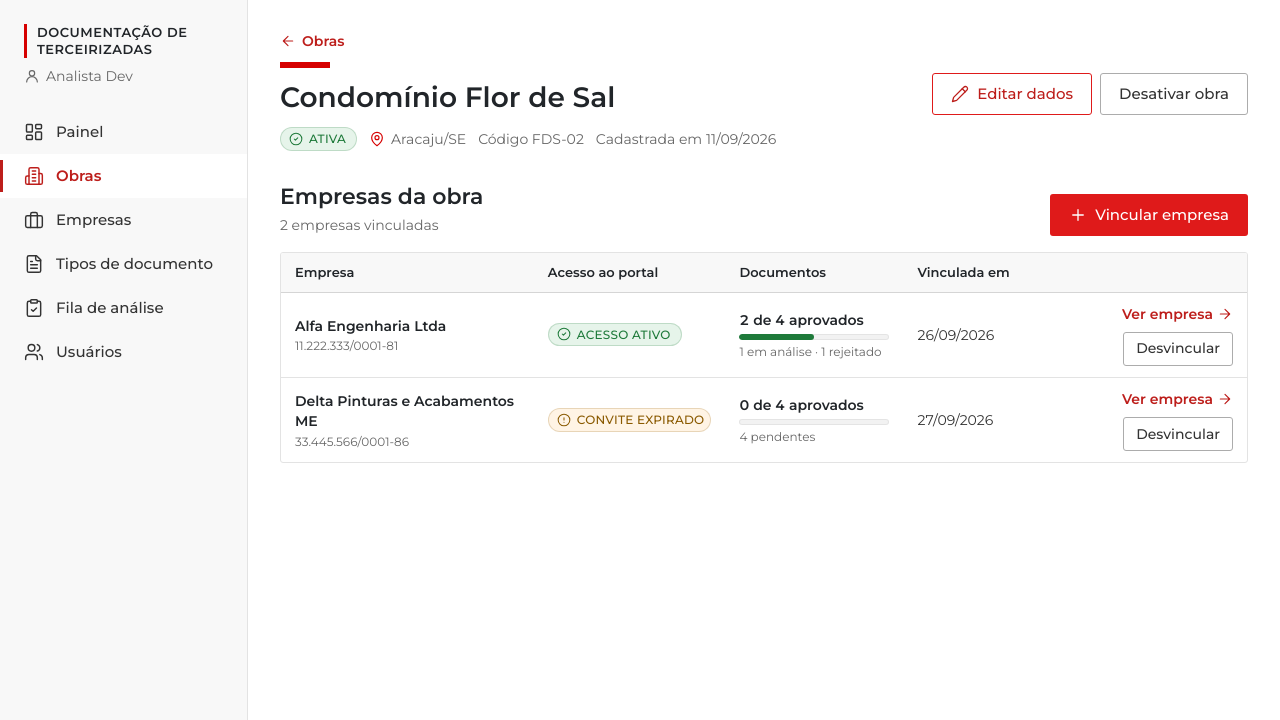
Test: 403 SEM_PERMISSAO › ao vincular empresa
The width and height of the screenshot is (1280, 720).
Check: the heading "Condomínio Flor de Sal" is shown, box [280,80,615,114]
Click the button "Vincular empresa": (1149, 215) [1050,194,1248,236]
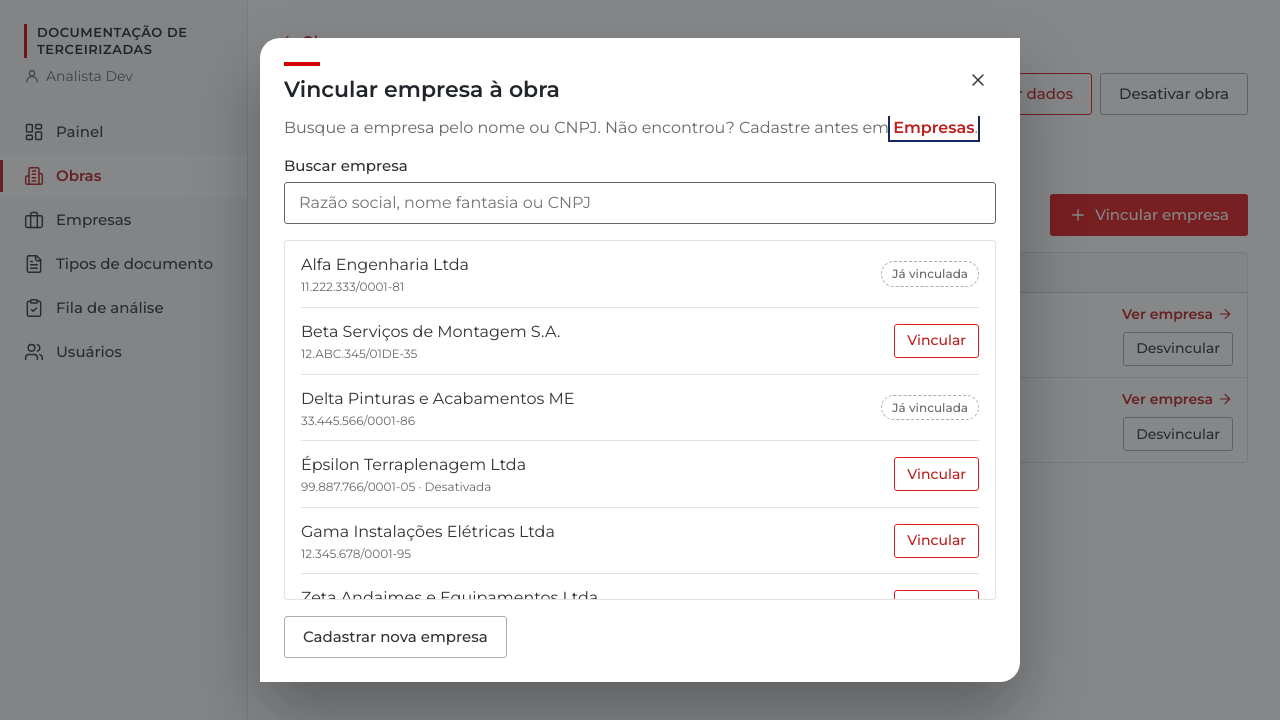
Click the button with aria-label "Vincular Gama Instalações Elétricas Ltda": (937, 541) [894,524,979,558]
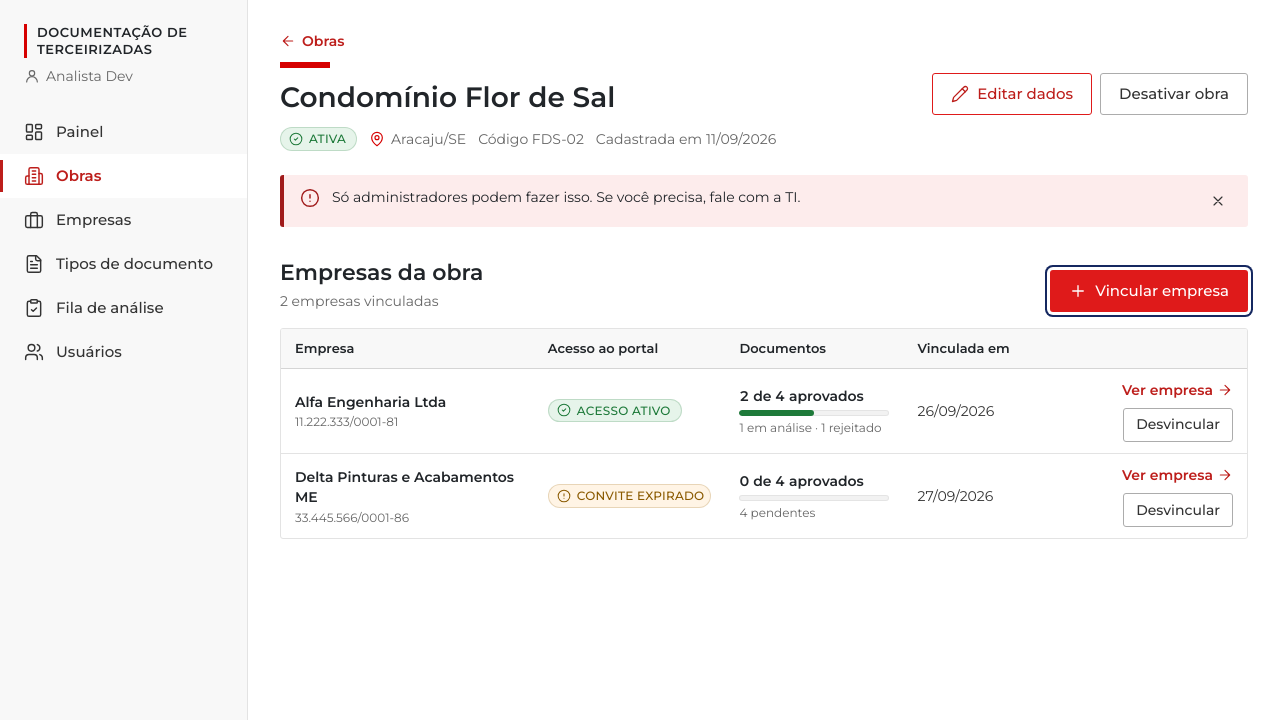
Check: the message reads "Só administradores podem fazer isso. Se você precisa, fale com a TI.", box [332,188,800,206]
Check: the dialog is gone
Check: the text "Gama Instalações Elétricas Ltda" is gone
